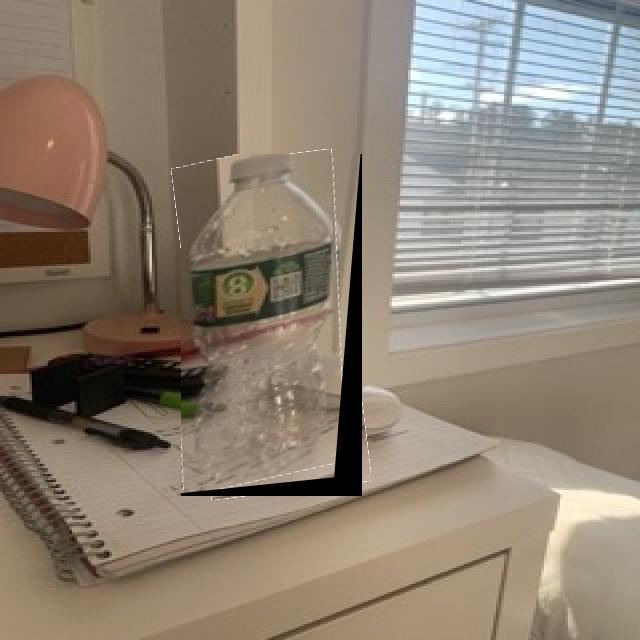water_bottle: (181, 154, 362, 496)
